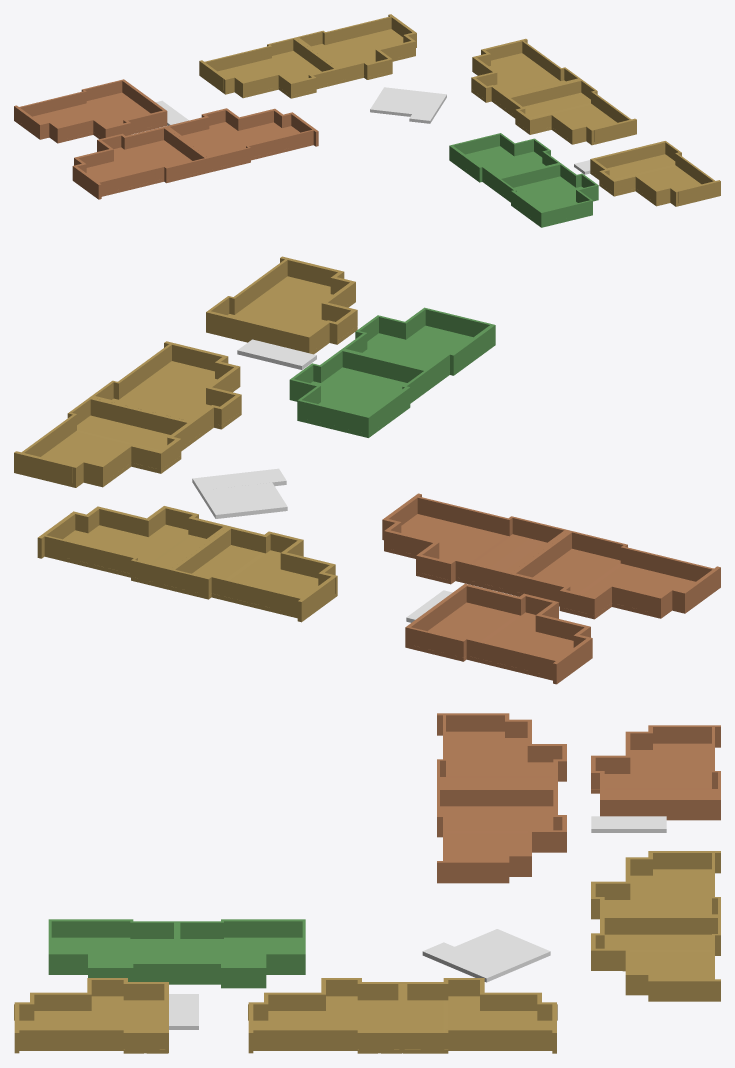
Rendered from cluster1Roof.glb.
3 views of the same model, one above another, from view 1: azimuth 30°, elevation 25°; view 2: azimuth 150°, elevation 25°; view 3: azimuth 270°, elevation 25° (orthographic). The views are drawn at different scales.
Parts seen in each view (by area): view 1: roof4room, roof5room, roof3room, roofCorridor; view 2: roof4room, roof5room, roof3room, roofCorridor; view 3: roof4room, roof5room, roof3room, roofCorridor.
Part boxes in pixels (x1,y1,x2,y2): roof4room: (199,14,720,206); roof5room: (14,79,318,199); roof3room: (449,133,598,227); roofCorridor: (156,87,590,174); roof4room: (14,256,357,622); roof5room: (382,493,720,684); roof3room: (289,307,495,437); roofCorridor: (192,339,452,622); roof4room: (14,851,720,1053); roof5room: (437,713,720,883); roof3room: (48,919,305,988); roofCorridor: (169,816,666,1029).
Bounding box in the file's own units: 50.06 × 1.5 × 46.8.
